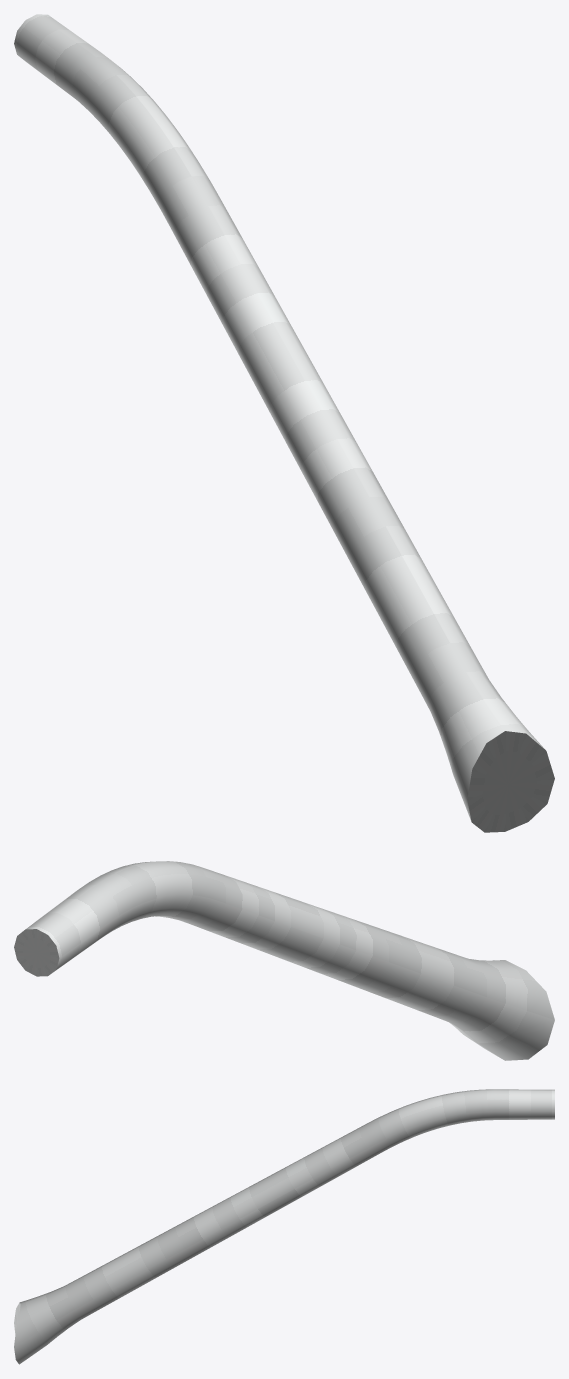
Rendered from luminairearm_caltrans8ftstraight_inv.obj.
3 views of the same model, one above another, from view 1: azimuth 30°, elevation 25°; view 2: azimuth 150°, elevation 25°; view 3: azimuth 270°, elevation 25° (orthographic). The views are drawn at different scales.
Visible parts, largest first — view 1: luminairearm_caltrans8ftstraight_inv; view 2: luminairearm_caltrans8ftstraight_inv; view 3: luminairearm_caltrans8ftstraight_inv.
Boxes of the visible parts, x1,y1,x2,y2 form: luminairearm_caltrans8ftstraight_inv: (14,14,554,832); luminairearm_caltrans8ftstraight_inv: (14,861,554,1060); luminairearm_caltrans8ftstraight_inv: (14,1089,554,1364).
Size of the model in its own units: 0.1067 by 0.5529 by 1.
